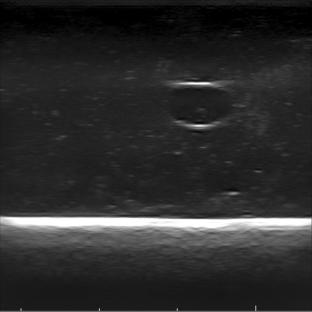vessel: (165, 82, 234, 131)
